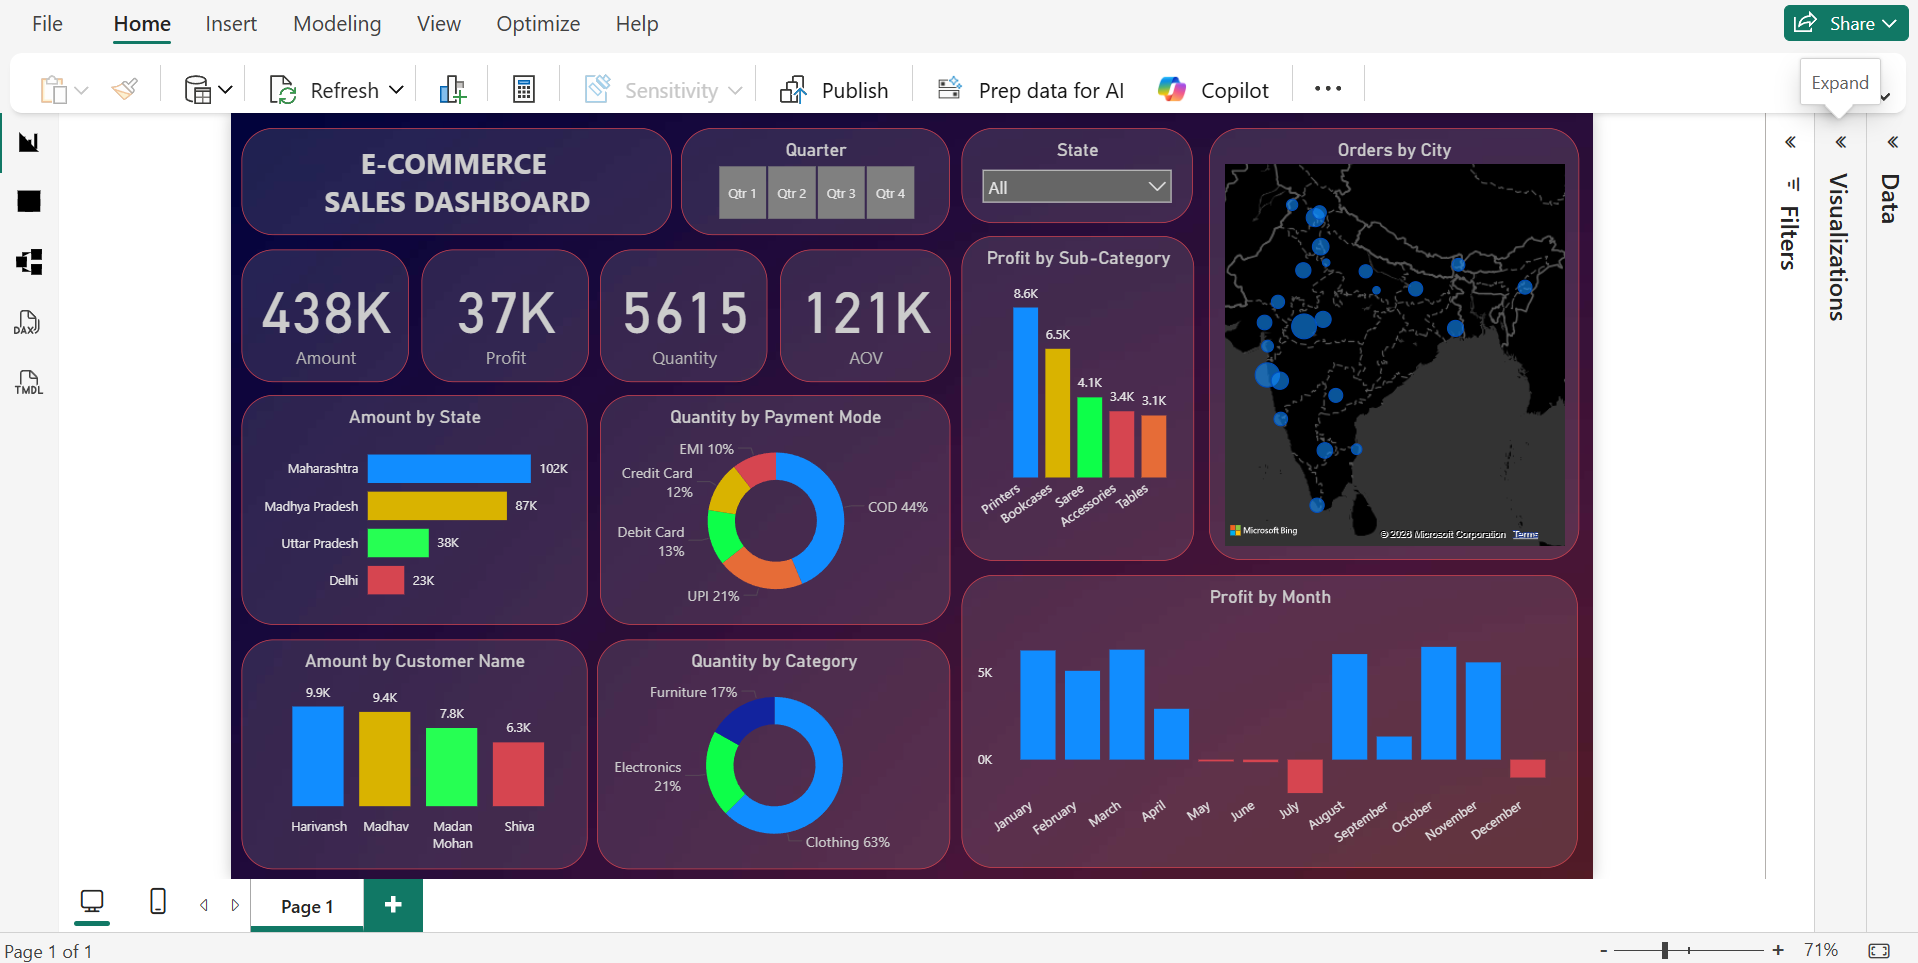

This screenshot's page, from the dashboard's own definition file:
{"tool":"powerbi","page":{"name":"Page 1","canvas":[1280,720],"ordinal":0},"visuals":[{"type":"textbox","box":[9.9,14.2,404.7,100.8],"z":0},{"type":"columnChart","fields":{"Y":["Sum(Details.Profit)"],"Category":["Orders.Order Date.Variation.Date Hierarchy.Month"]},"box":[687.3,434.6,579.4,275.5],"z":1000},{"type":"columnChart","fields":{"Category":["Details.Sub-Category"],"Y":["Sum(Details.Profit)"]},"box":[687.3,115,218.7,305.3],"z":2000},{"type":"donutChart","fields":{"Category":["Details.Category"],"Y":["Sum(Details.Quantity)"]},"box":[343.7,494.2,332.3,215.9],"z":3000},{"type":"donutChart","fields":{"Y":["Sum(Details.Quantity)"],"Category":["Details.PaymentMode"]},"box":[346.5,265.6,329.5,215.9],"z":4000},{"type":"card","fields":{"Values":["Sum(Details.Amount)"]},"box":[9.9,127.8,157.6,125],"z":5000},{"type":"card","fields":{"Values":["Sum(Details.Profit)"]},"box":[178.5,127.8,157.6,125],"z":6000},{"type":"card","fields":{"Values":["Sum(Details.Quantity)"]},"box":[347,127.8,157.6,125],"z":7000},{"type":"card","fields":{"Values":["Sum(Details.AOV)"]},"box":[515.5,127.8,160.5,125],"z":8000},{"type":"barChart","fields":{"Category":["Orders.State"],"Y":["Sum(Details.Amount)"]},"box":[9.9,265.6,325.2,215.9],"z":9000},{"type":"columnChart","fields":{"Category":["Orders.Customer Name"],"Y":["Sum(Details.Amount)"]},"box":[10,494.2,325,216],"z":10000},{"type":"slicer","title":"Quarter","fields":{"Values":["Orders.Order Date.Variation.Date Hierarchy.Quarter"]},"box":[423.2,14.2,252.8,100.8],"z":11000},{"type":"slicer","title":"State","fields":{"Values":["Orders.State"]},"box":[687.3,14.2,217.3,89.5],"z":12000},{"type":"map","title":"Orders by City","fields":{"Category":["Orders.City"],"Size":["CountNonNull(Orders.Order ID)"]},"box":[918.8,14.2,347.9,406.2],"z":13000}]}

Visuals, with their boxes on the page's 1280x720 design canvas (x1, y1, x2, y2). These are canvas units, not pixel positions in the 1918x963 screenshot, which may show the page scaled, cropped or inside an application window:
textbox: l=10, t=14, r=415, b=115
columnChart - Sum(Details.Profit) x Orders.Order Date.Variation.Date Hierarchy.Month: l=687, t=435, r=1267, b=710
columnChart - Details.Sub-Category x Sum(Details.Profit): l=687, t=115, r=906, b=420
donutChart - Details.Category x Sum(Details.Quantity): l=344, t=494, r=676, b=710
donutChart - Sum(Details.Quantity) x Details.PaymentMode: l=346, t=266, r=676, b=482
card - Sum(Details.Amount): l=10, t=128, r=168, b=253
card - Sum(Details.Profit): l=178, t=128, r=336, b=253
card - Sum(Details.Quantity): l=347, t=128, r=505, b=253
card - Sum(Details.AOV): l=516, t=128, r=676, b=253
barChart - Orders.State x Sum(Details.Amount): l=10, t=266, r=335, b=482
columnChart - Orders.Customer Name x Sum(Details.Amount): l=10, t=494, r=335, b=710
"Quarter" slicer: l=423, t=14, r=676, b=115
"State" slicer: l=687, t=14, r=905, b=104
"Orders by City" map: l=919, t=14, r=1267, b=420
